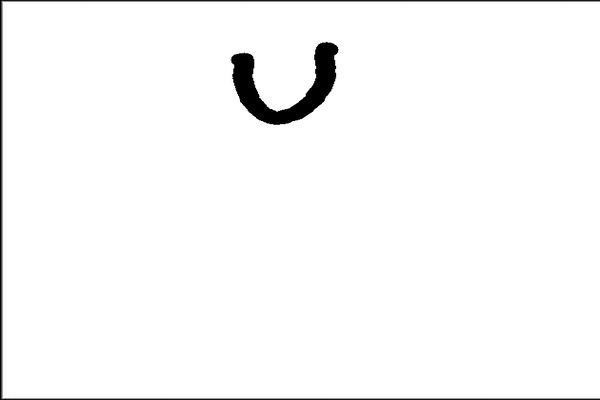U: (209, 40, 353, 128)
